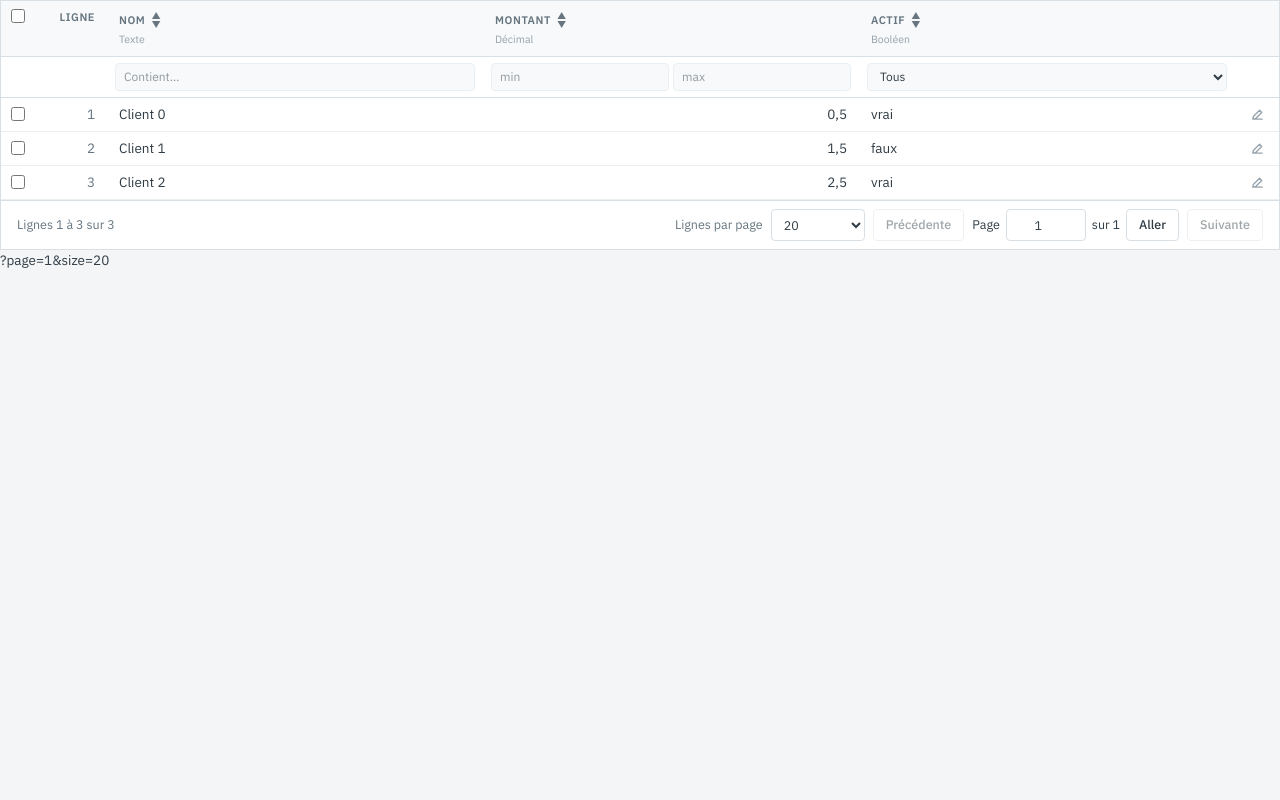
Test: affiche sous chaque champ la raison de son refus
Expected: the text "Lignes 1 à 3 sur 3" is shown, [17,215,115,234]
Click the button named "Modifier la ligne 1" at (1257, 114), box [1243,100,1271,128]
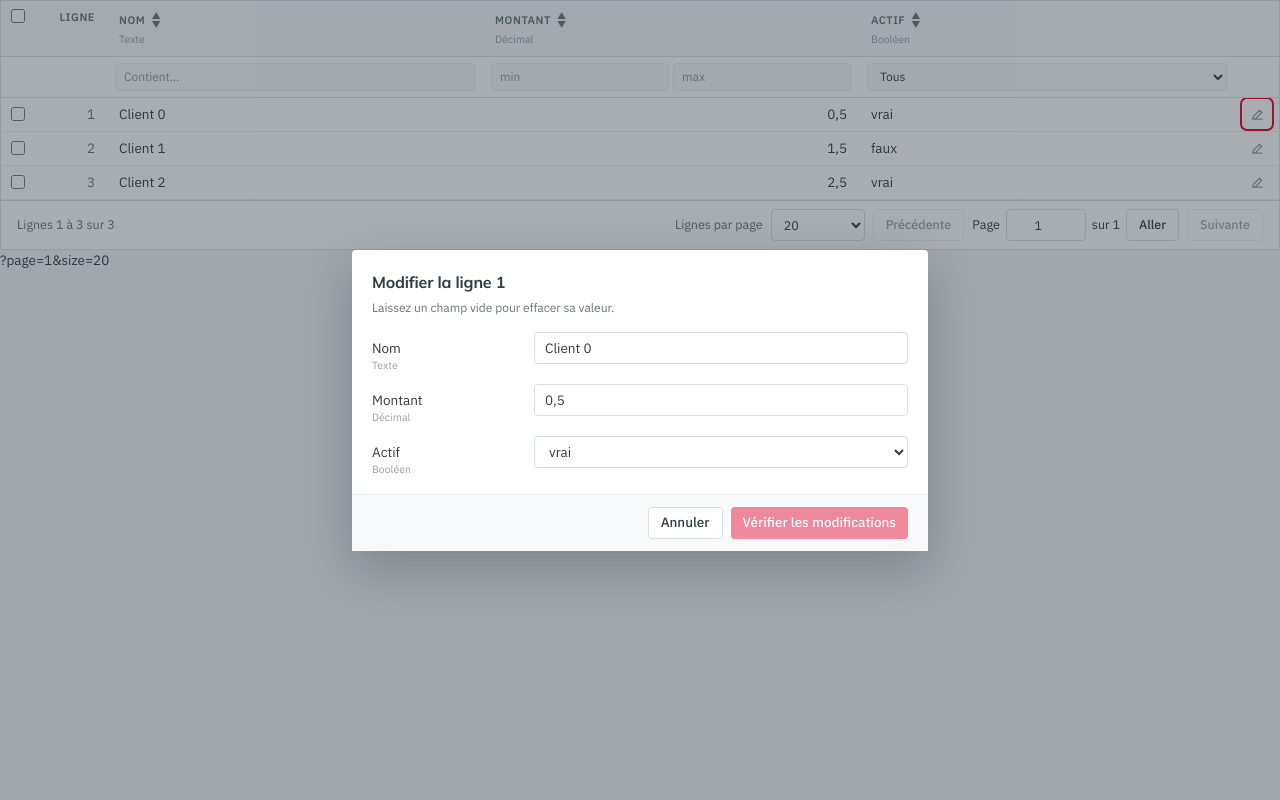
Replace the text in the field labelled "Montant Décimal" with "abc" at (721, 400), box [534,384,908,416]
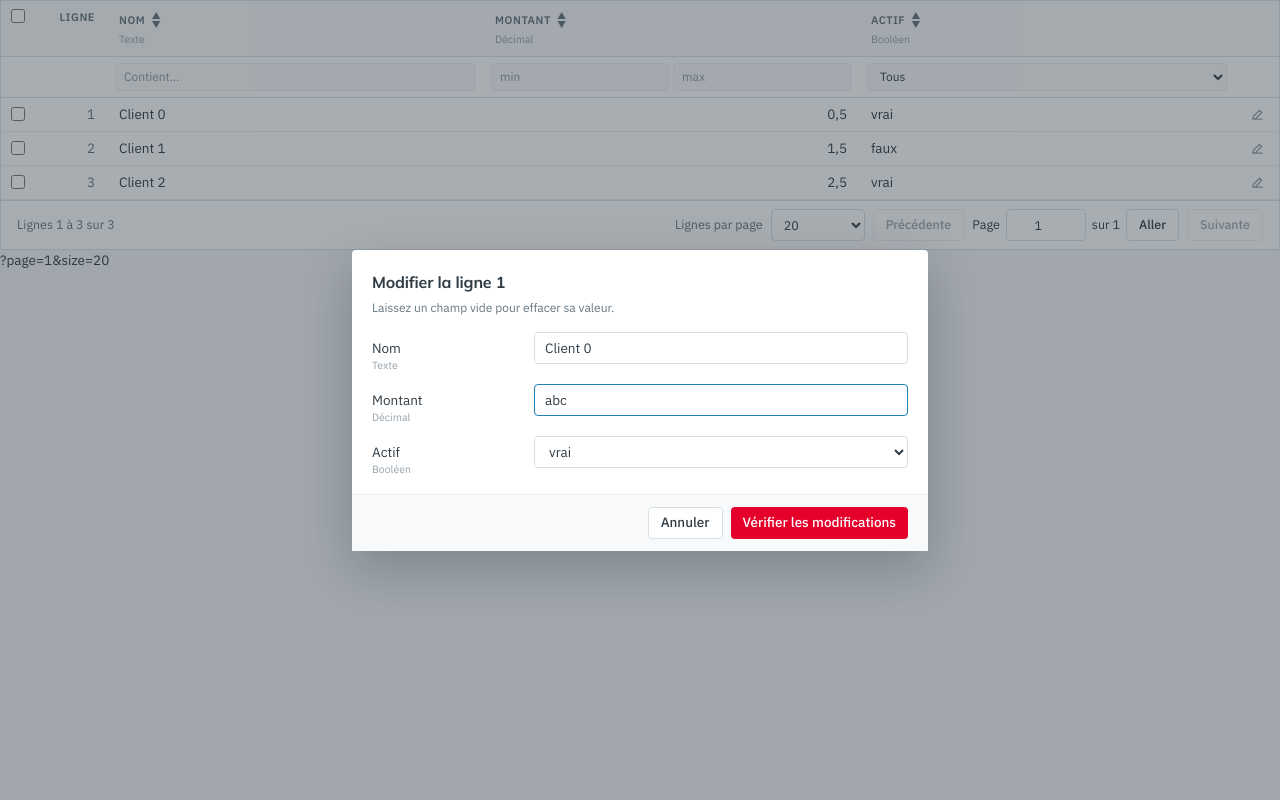
Click the button "Vérifier les modifications" at (819, 522), box [730,506,908,538]
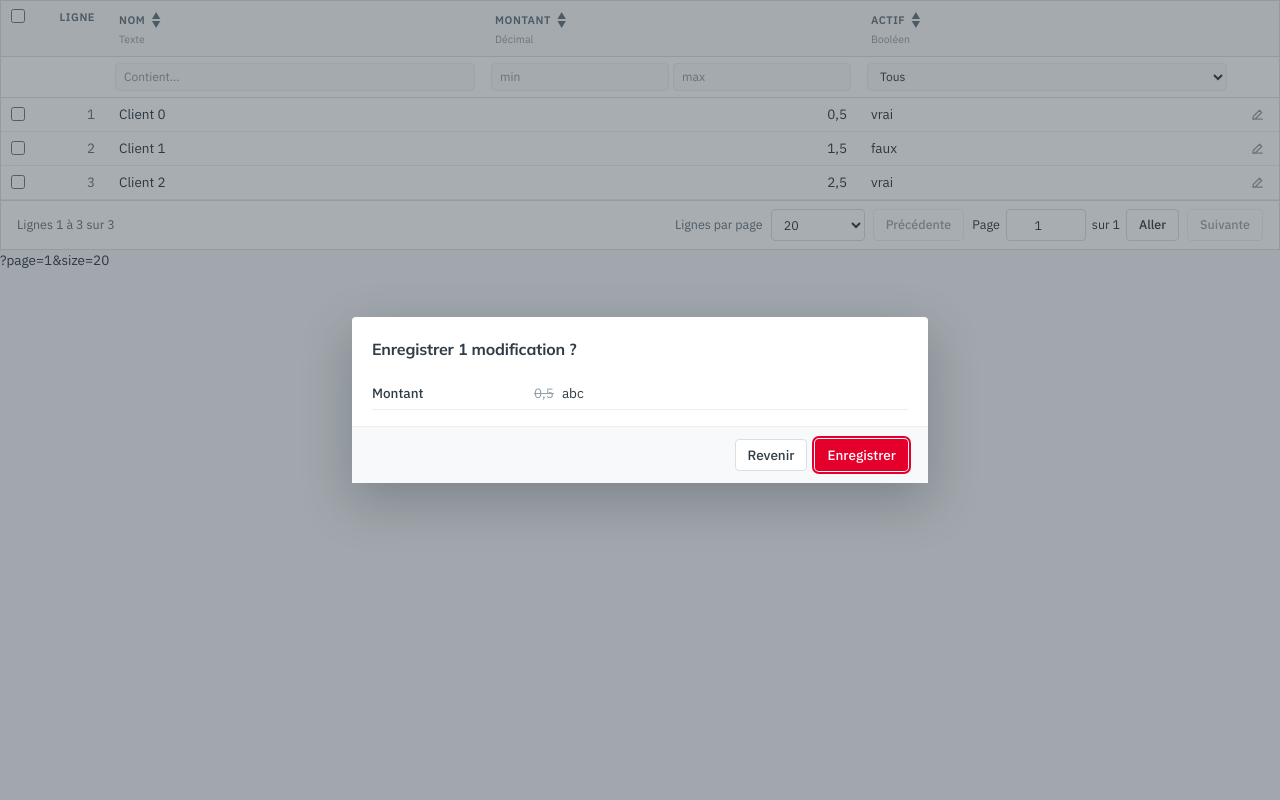
Click the button "Enregistrer" at (862, 455), box [816,439,908,471]
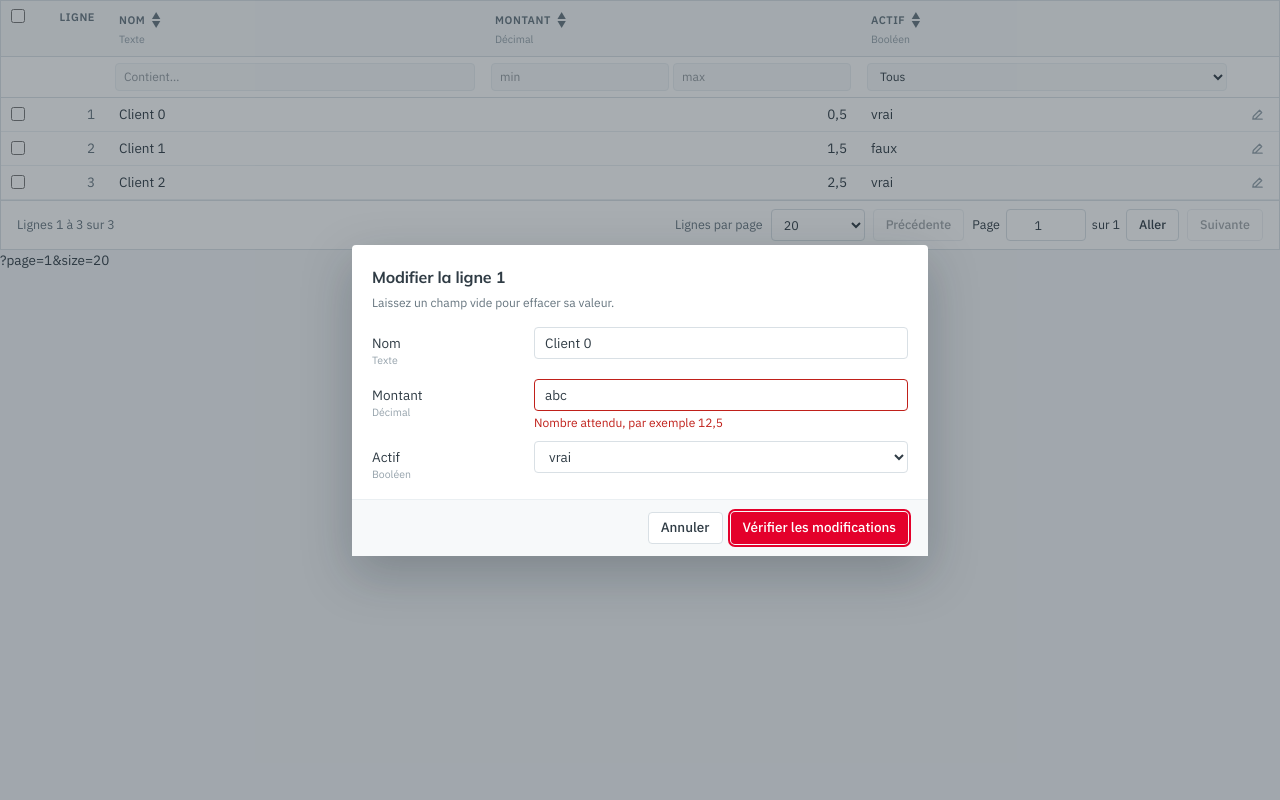
Result: the text "Nombre attendu, par exemple 12,5" is shown at [534,414,723,430]
